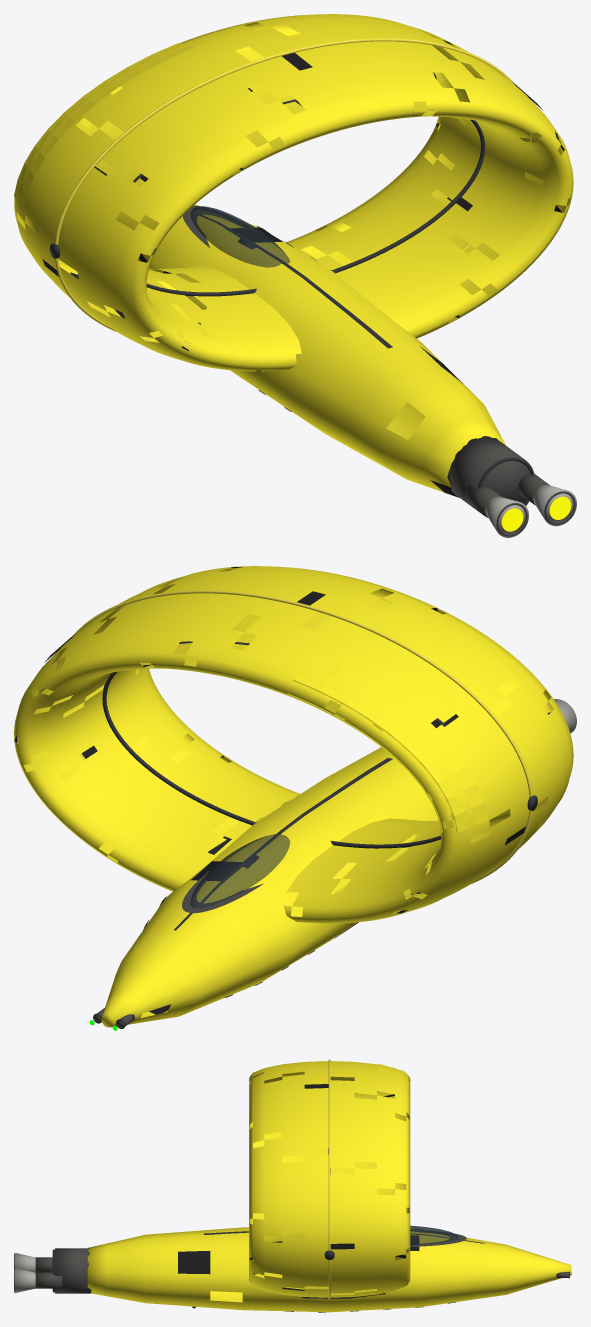
The model's file is Ship_Hooper_760830.glb.
3 views of the same model, one above another, from view 1: azimuth 30°, elevation 25°; view 2: azimuth 150°, elevation 25°; view 3: azimuth 270°, elevation 25° (orthographic). The views are drawn at different scales.
Parts seen in each view (by area): view 1: Hoop_MainStructuralRing_YAxisHole_ElongatedY_LowerMidpointAt, Fuselage_MainCenteredHull_CenterOfMassAtOrigin, EngineBlock_AftHullIntegratedMountPlate, CanopyGlass_LowForwardPodDome, PaintHoopAsymmetricGate_LeftTallPrimaryPanel, Hoop_OuterArmorRaisedRim, Hoop_InnerLip_DarkInsetRing, EngineBell_Left_AftHullBurnishedNozzle, EngineBell_Right_AftHullBurnishedNozzle, FuselageLongitudinalSeam_DorsalDarkSpine, EngineEmitter, CanopyFrame_LowInsetOvalRim; view 2: Hoop_MainStructuralRing_YAxisHole_ElongatedY_LowerMidpointAt, Fuselage_MainCenteredHull_CenterOfMassAtOrigin, PaintHoopAsymmetricGate_LeftTallPrimaryPanel, CanopyGlass_LowForwardPodDome, Hoop_OuterArmorRaisedRim, Hoop_InnerLip_DarkInsetRing, CanopyFrame_LowInsetOvalRim, FuselageLongitudinalSeam_DorsalDarkSpine; view 3: Hoop_MainStructuralRing_YAxisHole_ElongatedY_LowerMidpointAt, Fuselage_MainCenteredHull_CenterOfMassAtOrigin, EngineBlock_AftHullIntegratedMountPlate, CanopyGlass_LowForwardPodDome, Hoop_OuterArmorRaisedRim, EngineBell_Right_AftHullBurnishedNozzle, EngineThroat_Right_AftHullDarkSocket, CanopyFrame_LowInsetOvalRim, EngineBell_Left_AftHullBurnishedNozzle.
Part boxes in pixels (x1,y1,x2,y2): Hoop_MainStructuralRing_YAxisHole_ElongatedY_LowerMidpointAt: [14, 14, 573, 371]; Fuselage_MainCenteredHull_CenterOfMassAtOrigin: [149, 204, 505, 497]; EngineBlock_AftHullIntegratedMountPlate: [450, 436, 534, 517]; CanopyGlass_LowForwardPodDome: [190, 206, 290, 267]; PaintHoopAsymmetricGate_LeftTallPrimaryPanel: [14, 43, 194, 211]; Hoop_OuterArmorRaisedRim: [55, 38, 531, 344]; Hoop_InnerLip_DarkInsetRing: [133, 99, 485, 296]; EngineBell_Left_AftHullBurnishedNozzle: [485, 496, 528, 537]; EngineBell_Right_AftHullBurnishedNozzle: [533, 485, 576, 526]; FuselageLongitudinalSeam_DorsalDarkSpine: [200, 215, 392, 348]; EngineEmitter: [501, 496, 571, 531]; CanopyFrame_LowInsetOvalRim: [182, 205, 260, 247]; Hoop_MainStructuralRing_YAxisHole_ElongatedY_LowerMidpointAt: [14, 566, 573, 923]; Fuselage_MainCenteredHull_CenterOfMassAtOrigin: [101, 747, 438, 1027]; PaintHoopAsymmetricGate_LeftTallPrimaryPanel: [287, 655, 488, 832]; CanopyGlass_LowForwardPodDome: [190, 834, 290, 908]; Hoop_OuterArmorRaisedRim: [57, 590, 532, 896]; Hoop_InnerLip_DarkInsetRing: [102, 641, 446, 848]; CanopyFrame_LowInsetOvalRim: [182, 871, 263, 913]; FuselageLongitudinalSeam_DorsalDarkSpine: [174, 758, 392, 930]; Hoop_MainStructuralRing_YAxisHole_ElongatedY_LowerMidpointAt: [249, 1061, 410, 1297]; Fuselage_MainCenteredHull_CenterOfMassAtOrigin: [87, 1227, 571, 1312]; EngineBlock_AftHullIntegratedMountPlate: [55, 1248, 91, 1293]; CanopyGlass_LowForwardPodDome: [410, 1225, 458, 1244]; Hoop_OuterArmorRaisedRim: [328, 1059, 330, 1299]; EngineBell_Right_AftHullBurnishedNozzle: [14, 1268, 35, 1293]; EngineThroat_Right_AftHullDarkSocket: [35, 1272, 62, 1288]; CanopyFrame_LowInsetOvalRim: [410, 1230, 466, 1246]; EngineBell_Left_AftHullBurnishedNozzle: [14, 1253, 35, 1272].
Size of the model in its own units: 4.25 by 2.85 by 6.64.
